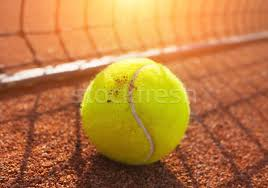tennis_ball: (81, 56, 192, 167)
